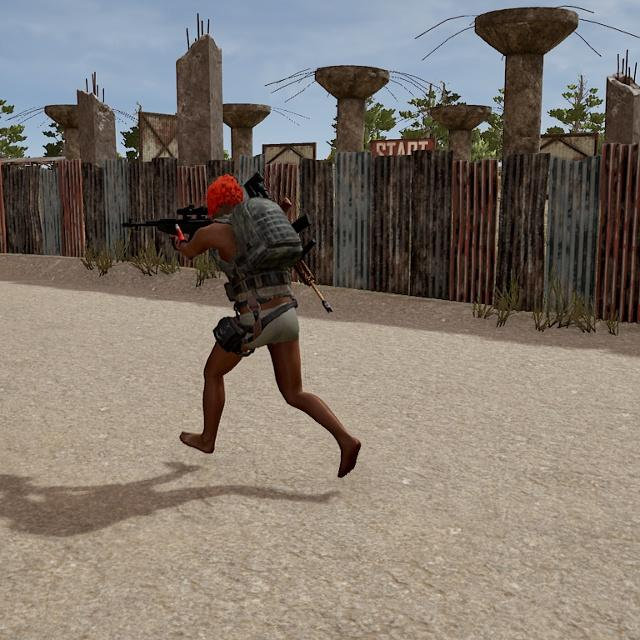head: (199, 170, 247, 232)
people: (157, 162, 370, 488)
